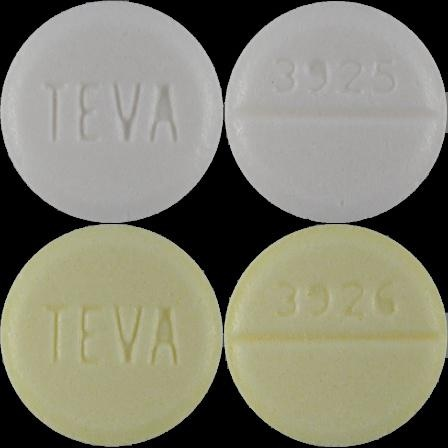21695-263: (0, 0, 224, 224)
